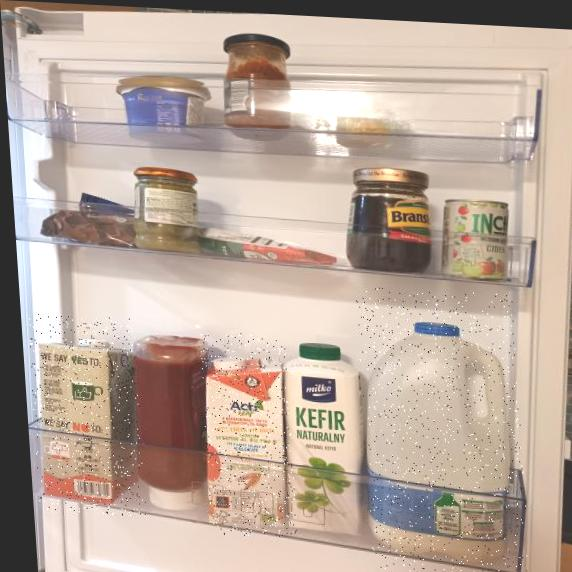milk: (355, 286, 531, 572), (27, 314, 147, 517), (198, 331, 298, 539)
